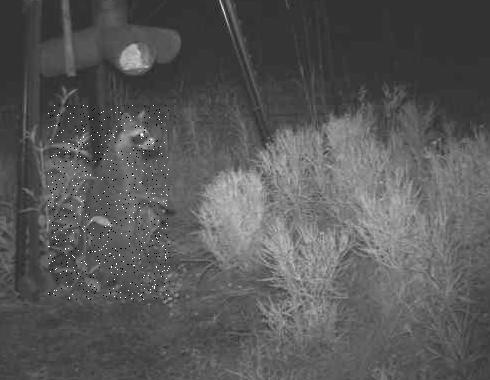Raccoon: (48, 105, 170, 300)
